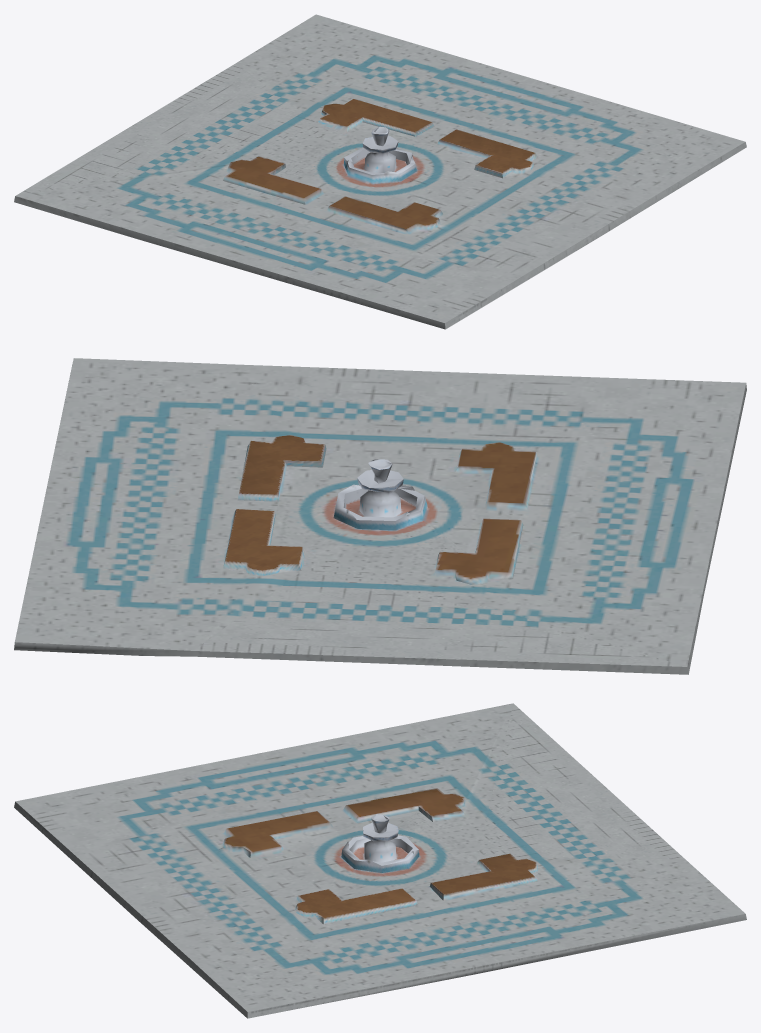
File: clod_town_c02_clod001.gltf
3 views of the same model, one above another, from view 1: azimuth 30°, elevation 25°; view 2: azimuth 150°, elevation 25°; view 3: azimuth 270°, elevation 25° (orthographic). The views are drawn at different scales.
Visible parts, largest first — view 1: clod_town_c02_clod001_000_meshShape:remesh_mat; view 2: clod_town_c02_clod001_000_meshShape:remesh_mat; view 3: clod_town_c02_clod001_000_meshShape:remesh_mat.
Boxes of the visible parts, x1,y1,x2,y2 form: clod_town_c02_clod001_000_meshShape:remesh_mat: (14, 14, 746, 329); clod_town_c02_clod001_000_meshShape:remesh_mat: (14, 358, 746, 674); clod_town_c02_clod001_000_meshShape:remesh_mat: (14, 703, 746, 1018).
Bounding box in the file's own units: 85.78 × 6.1 × 85.77.
1 material, 1 textured.
